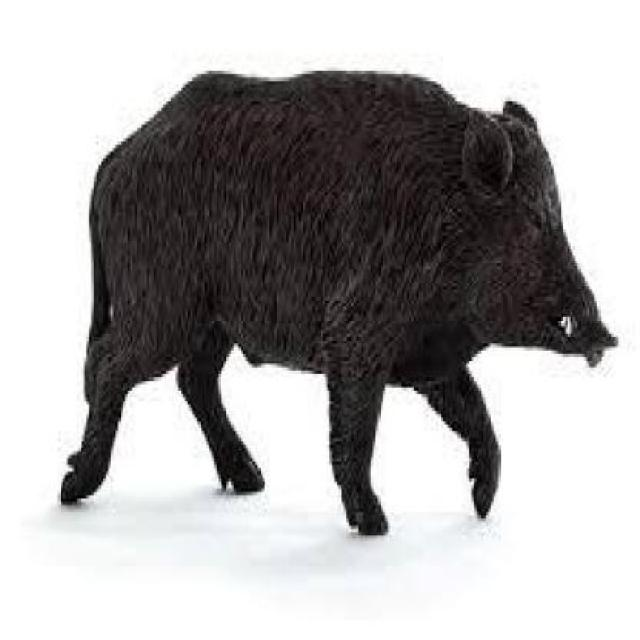wildboar: (54, 65, 624, 540)
